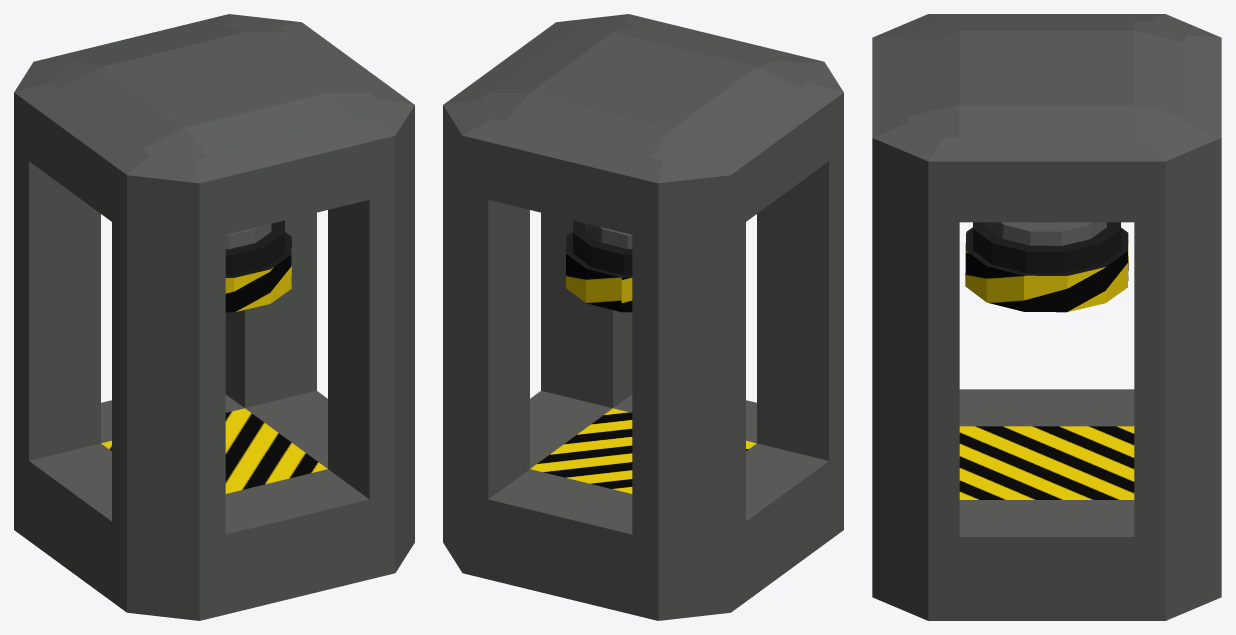
The model's file is PressTrap3.fbx.
3 renders of one model, left to right at view 1: azimuth 30°, elevation 25°; view 2: azimuth 150°, elevation 25°; view 3: azimuth 270°, elevation 25°, orthographic. The views are drawn at different scales.
Visible parts, largest first — view 1: Cube, Cylinder.001; view 2: Cube, Cylinder.001; view 3: Cube, Cylinder.001.
Part boxes in pixels (box(x1,y1,x2,y2)): Cube: box(14, 14, 414, 620); Cylinder.001: box(225, 220, 292, 312); Cube: box(443, 14, 843, 620); Cylinder.001: box(565, 220, 632, 312); Cube: box(872, 14, 1221, 620); Cylinder.001: box(965, 222, 1128, 312).
Bounding box in the file's own units: 300 × 454 × 300.
